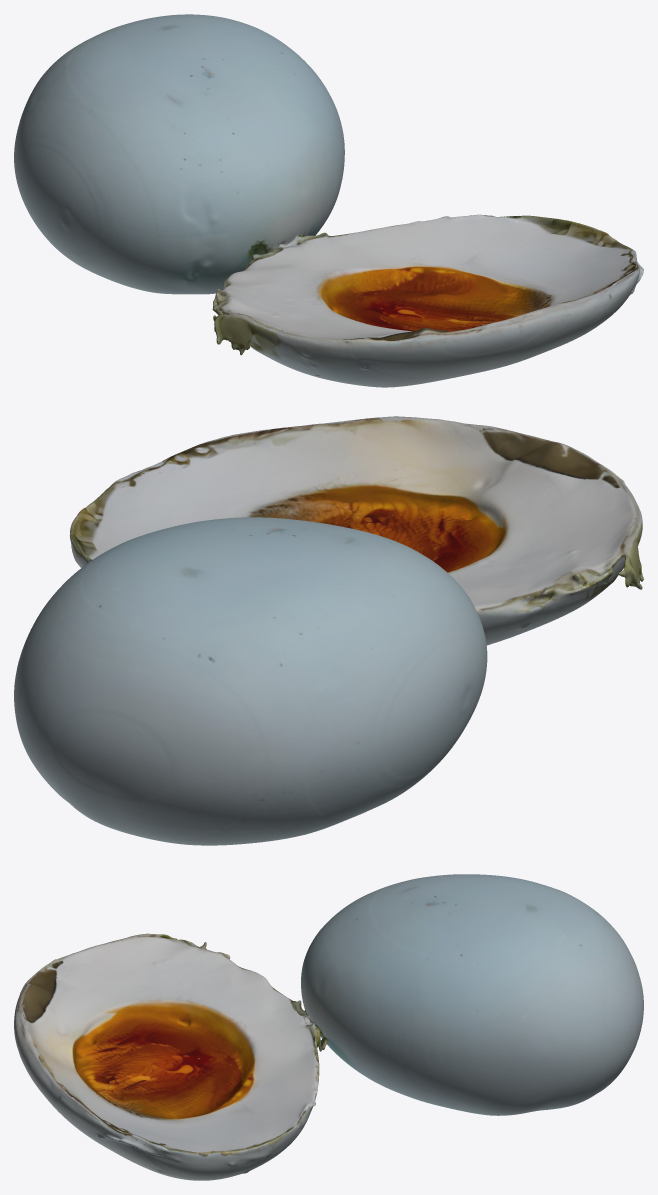
Rendered from egg.glb.
3 views of the same model, one above another, from view 1: azimuth 30°, elevation 25°; view 2: azimuth 150°, elevation 25°; view 3: azimuth 270°, elevation 25° (orthographic). The views are drawn at different scales.
Parts seen in each view (by area): view 1: tripo_node_1d6037f5-7847-40c5-b288-186dd2b0438b; view 2: tripo_node_1d6037f5-7847-40c5-b288-186dd2b0438b; view 3: tripo_node_1d6037f5-7847-40c5-b288-186dd2b0438b.
Part boxes in pixels (left/top/right/bottom): tripo_node_1d6037f5-7847-40c5-b288-186dd2b0438b: left=14, top=14, right=643, bottom=387; tripo_node_1d6037f5-7847-40c5-b288-186dd2b0438b: left=14, top=416, right=643, bottom=845; tripo_node_1d6037f5-7847-40c5-b288-186dd2b0438b: left=14, top=874, right=643, bottom=1180.
Bounding box in the file's own units: 0.7132 × 0.3322 × 1.
1 material, 1 textured.
